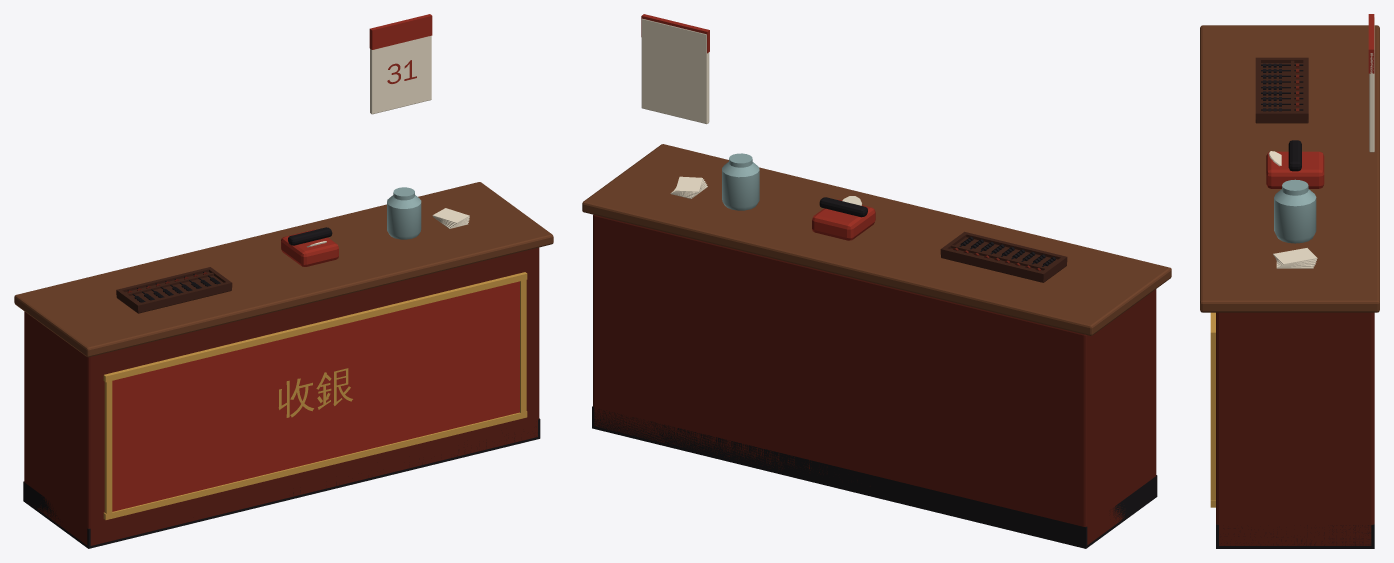
Rendered from counter.glb.
The picture shows the model from 3 angles, left to right: view 1: azimuth 30°, elevation 25°; view 2: azimuth 150°, elevation 25°; view 3: azimuth 270°, elevation 25°; orthographic projection. The views are drawn at different scales.
Parts seen in each view (by area): view 1: counter; view 2: counter; view 3: counter.
Boxes of the visible parts, x1,y1,x2,y2 form: counter: (14, 14, 553, 548); counter: (582, 14, 1171, 548); counter: (1200, 14, 1379, 548).
Size of the model in its own units: 2.48 by 1.97 by 0.68.
